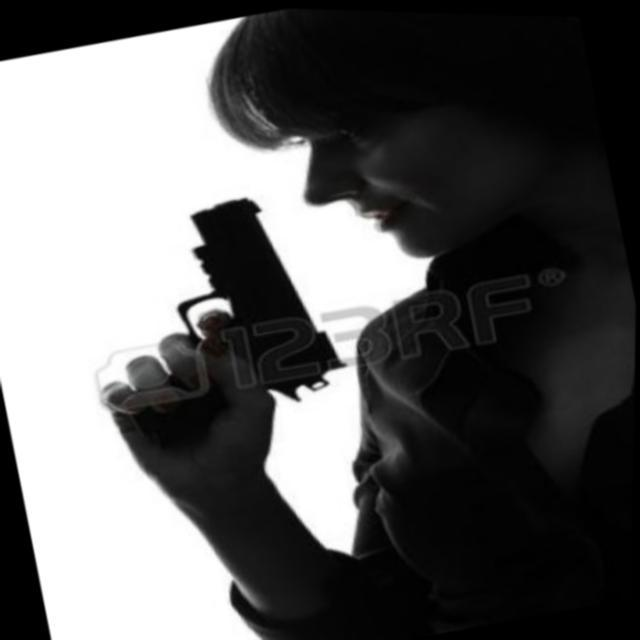weapon: (78, 167, 371, 474)
